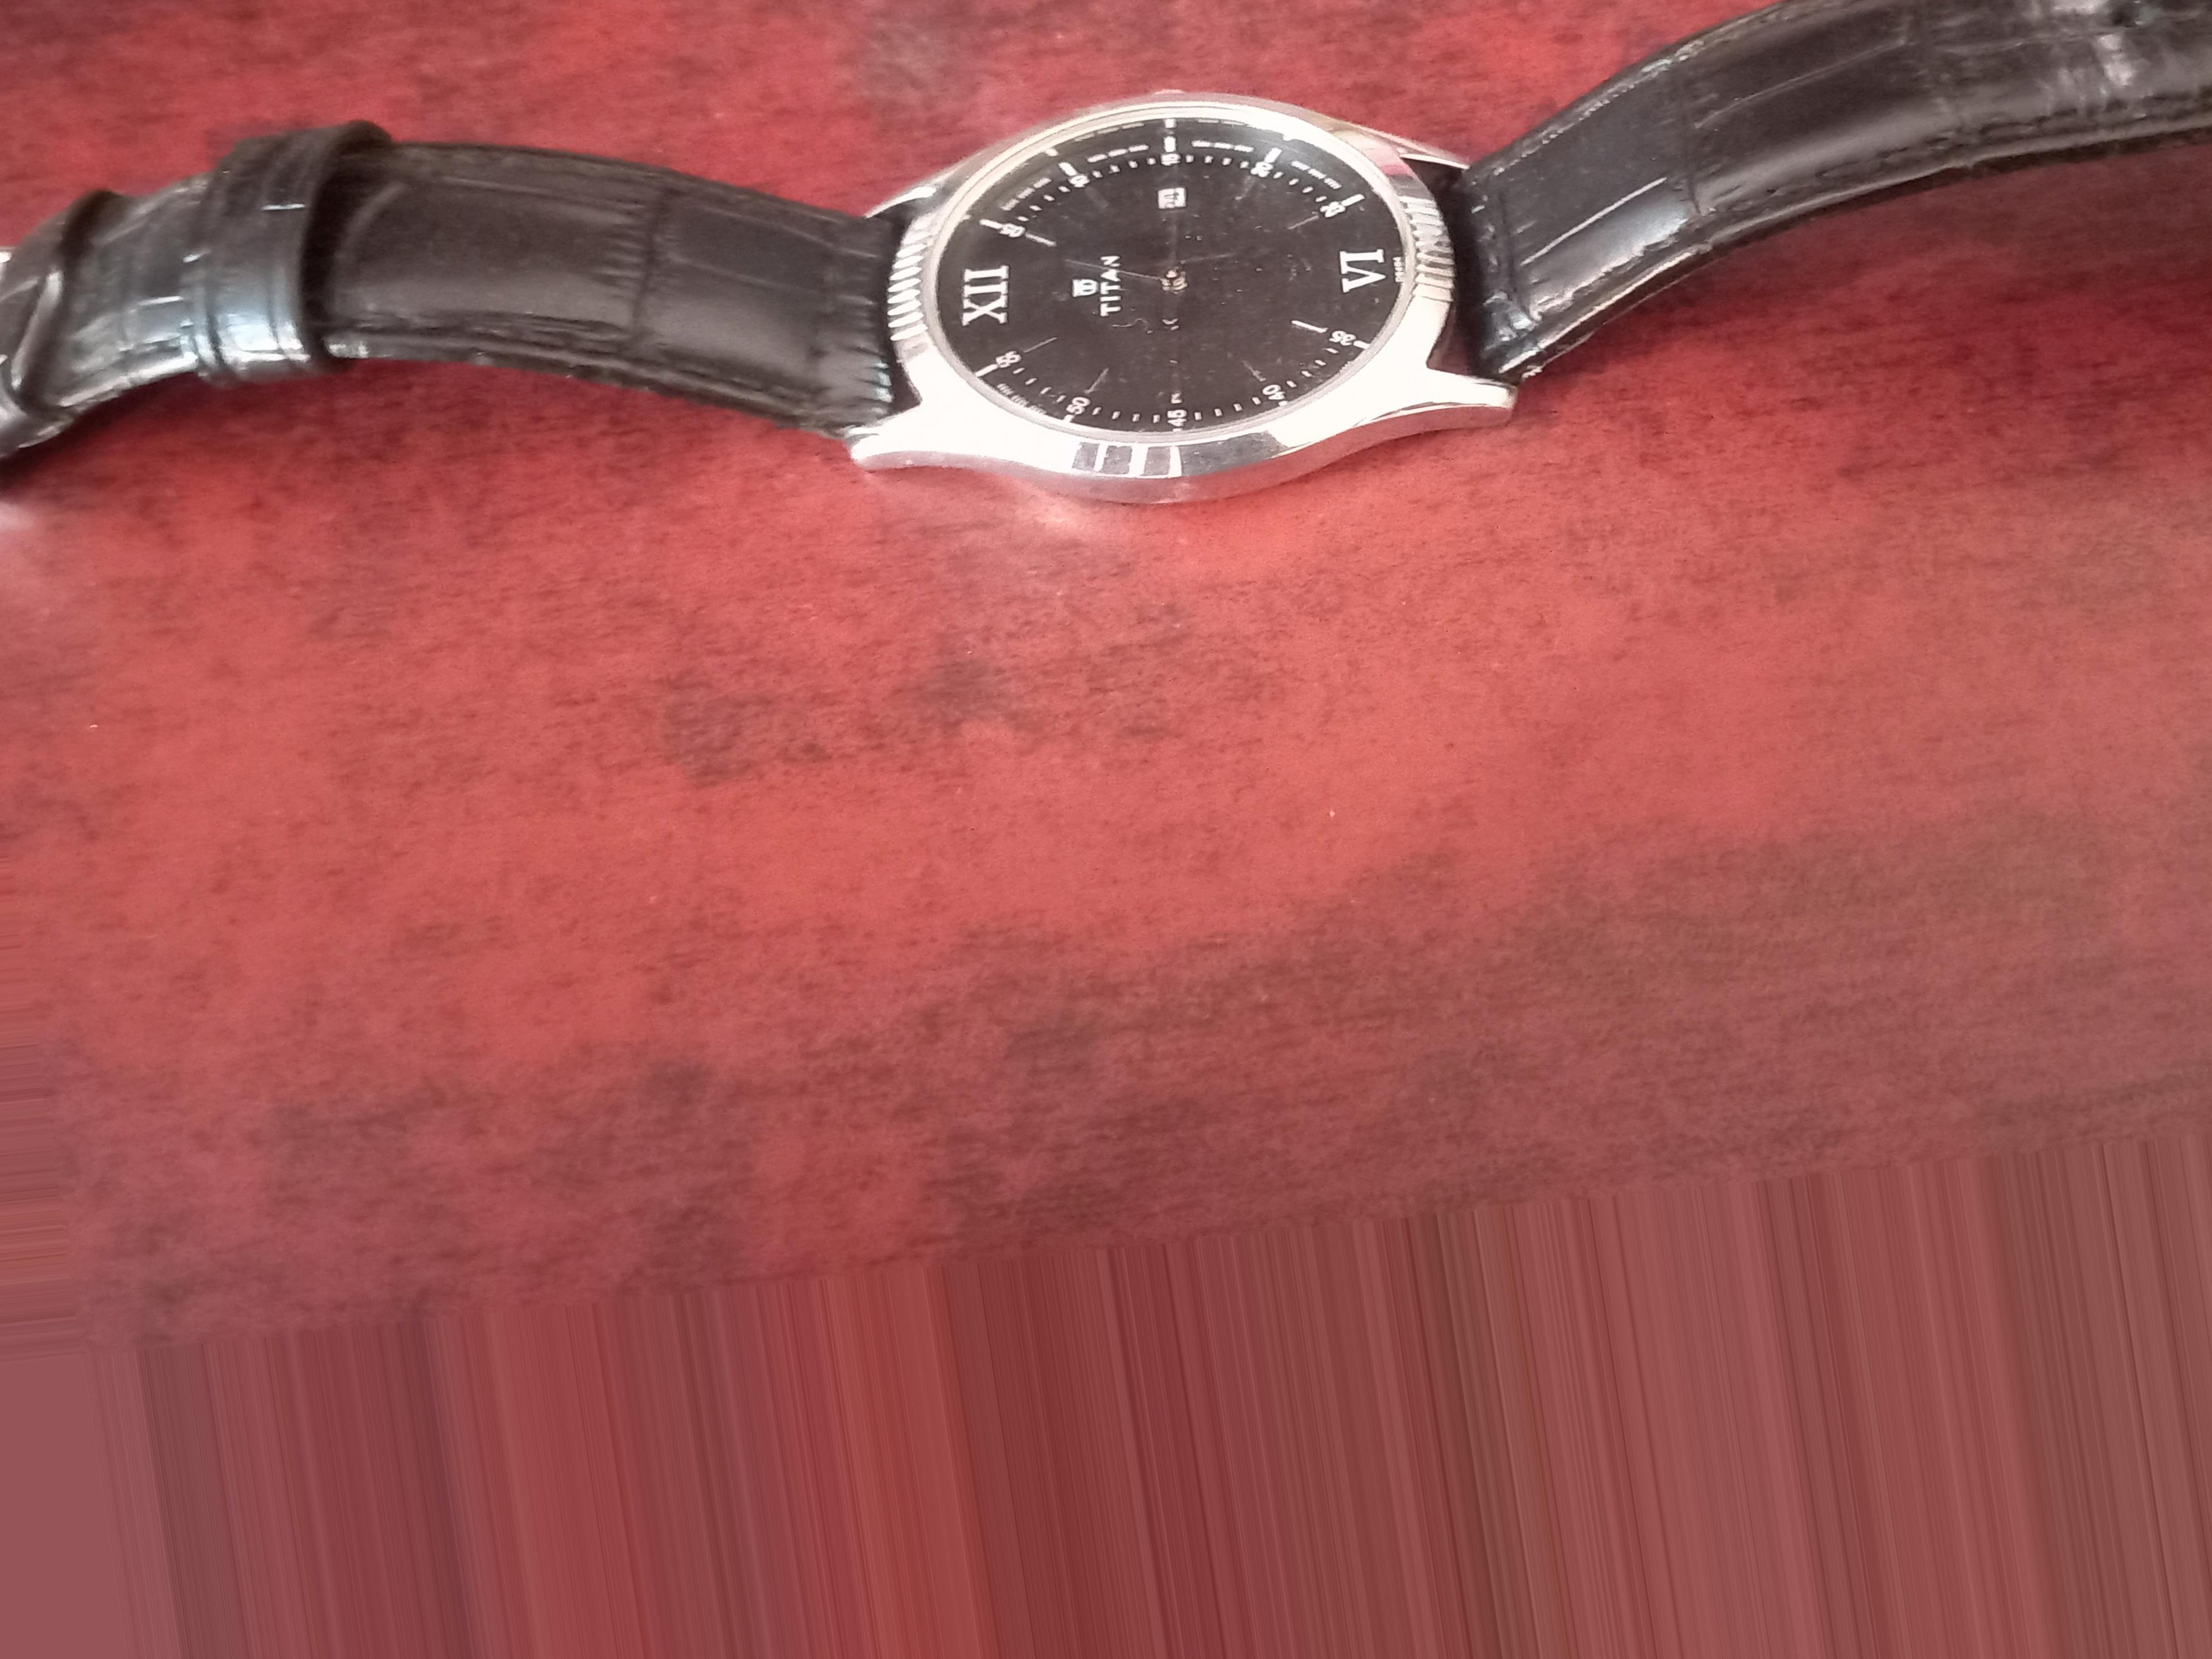watch: (21, 30, 2182, 441)
